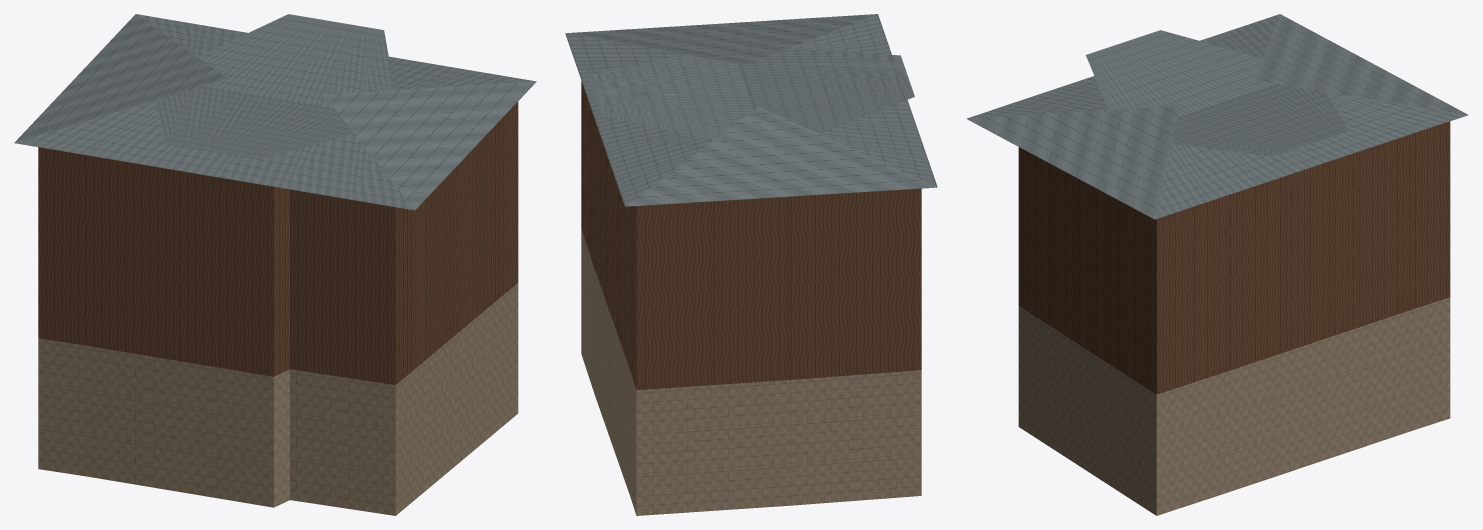
Rendered from bld_c15_26_393.gltf.
The picture shows the model from 3 angles, left to right: view 1: azimuth 30°, elevation 25°; view 2: azimuth 150°, elevation 25°; view 3: azimuth 270°, elevation 25°; orthographic projection. The views are drawn at different scales.
Parts seen in each view (by area): view 1: bld_c15_26_393; view 2: bld_c15_26_393; view 3: bld_c15_26_393.
Boxes of the visible parts, box(x1,y1,x2,y2) form: bld_c15_26_393: box(14, 14, 536, 515); bld_c15_26_393: box(565, 14, 937, 515); bld_c15_26_393: box(966, 14, 1468, 515).
Bounding box in the file's own units: 18.57 × 13.8 × 19.17.
3 materials, 3 textured.
